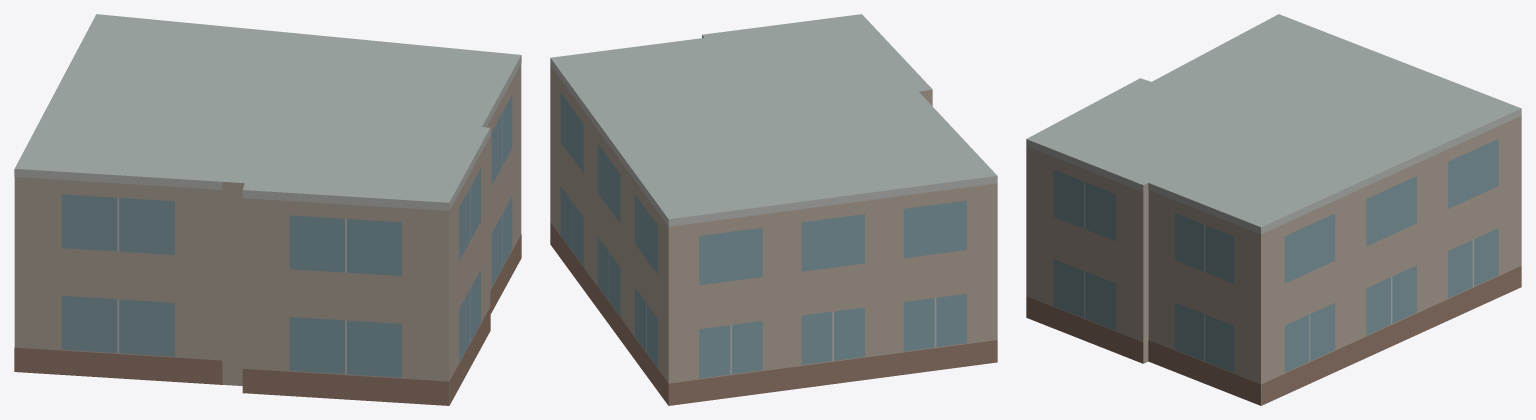
The model's file is survey-upis-32677191.glb.
3 renders of one model, left to right at view 1: azimuth 30°, elevation 25°; view 2: azimuth 150°, elevation 25°; view 3: azimuth 270°, elevation 25°, orthographic. The views are drawn at different scales.
Parts seen in each view (by area): view 1: survey-upis-32677191.tmp; view 2: survey-upis-32677191.tmp; view 3: survey-upis-32677191.tmp.
Boxes of the visible parts, x1,y1,x2,y2 form: survey-upis-32677191.tmp: (14, 14, 521, 405); survey-upis-32677191.tmp: (550, 14, 997, 405); survey-upis-32677191.tmp: (1026, 14, 1521, 405).
Bounding box in the file's own units: 15.63 × 6.1 × 15.34.
